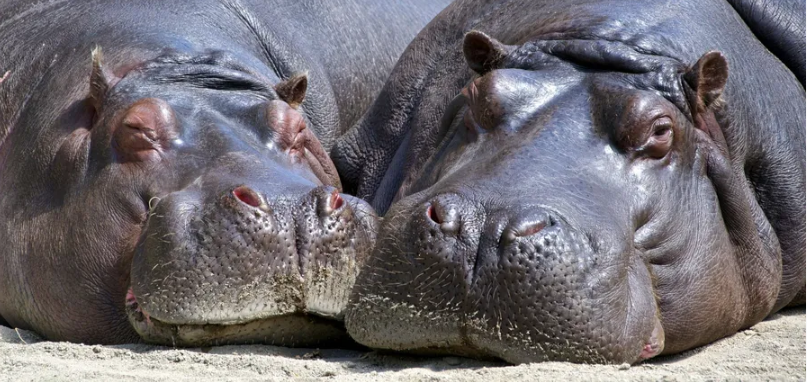hippo: (366, 5, 796, 369), (1, 2, 357, 370)
